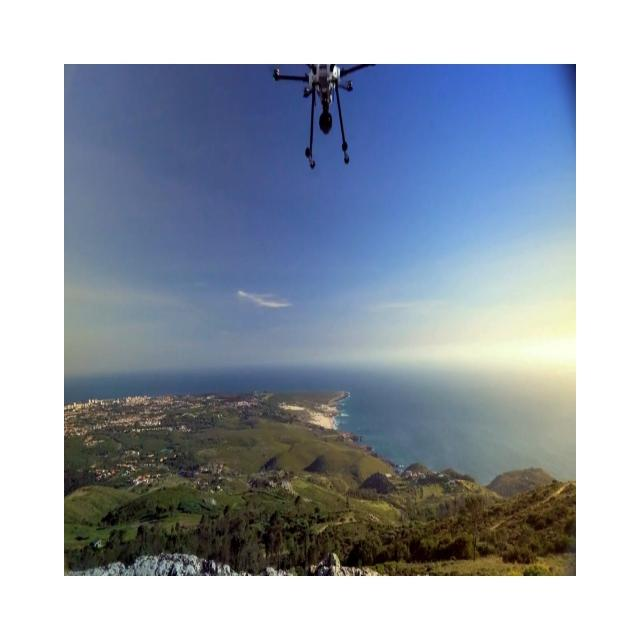drone: (272, 62, 376, 169)
